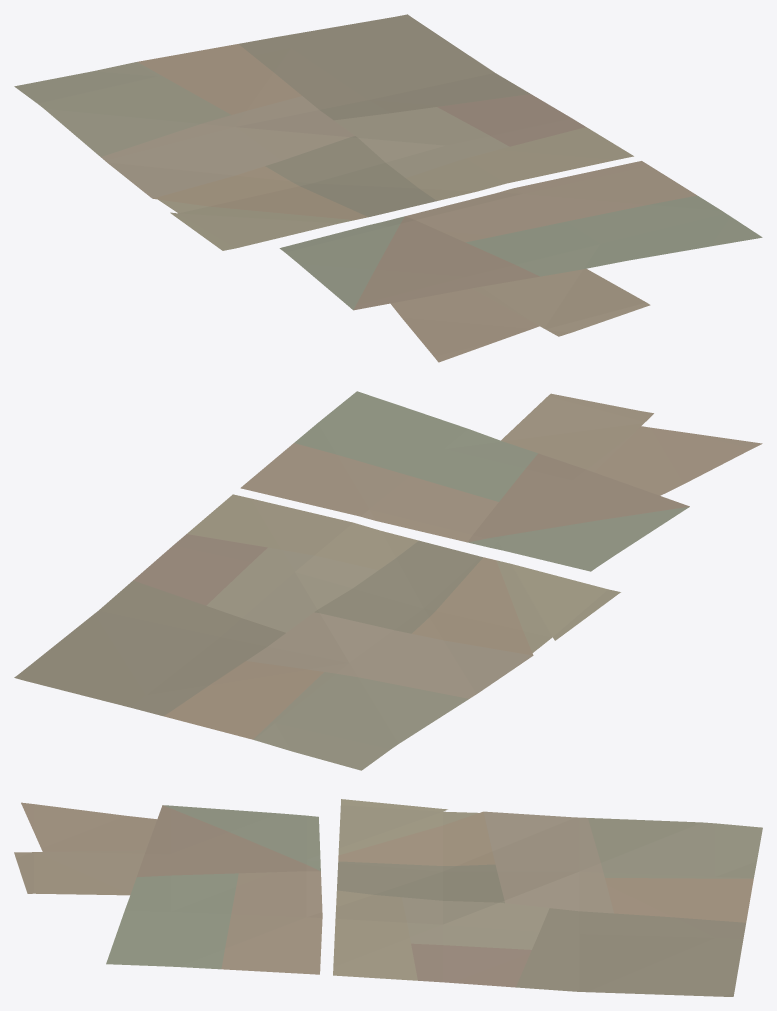
Rendered from farm_12_10_soil.glb.
3 renders of one model, top to bottom at view 1: azimuth 30°, elevation 25°; view 2: azimuth 150°, elevation 25°; view 3: azimuth 270°, elevation 25°, orthographic. The views are drawn at different scales.
Parts seen in each view (by area): view 1: geometry_0; view 2: geometry_0; view 3: geometry_0.
Boxes of the visible parts, x1,y1,x2,y2 form: geometry_0: (14, 14, 762, 362); geometry_0: (14, 391, 762, 770); geometry_0: (14, 799, 762, 996).
Size of the model in its own units: 244 by 22.99 by 440.
